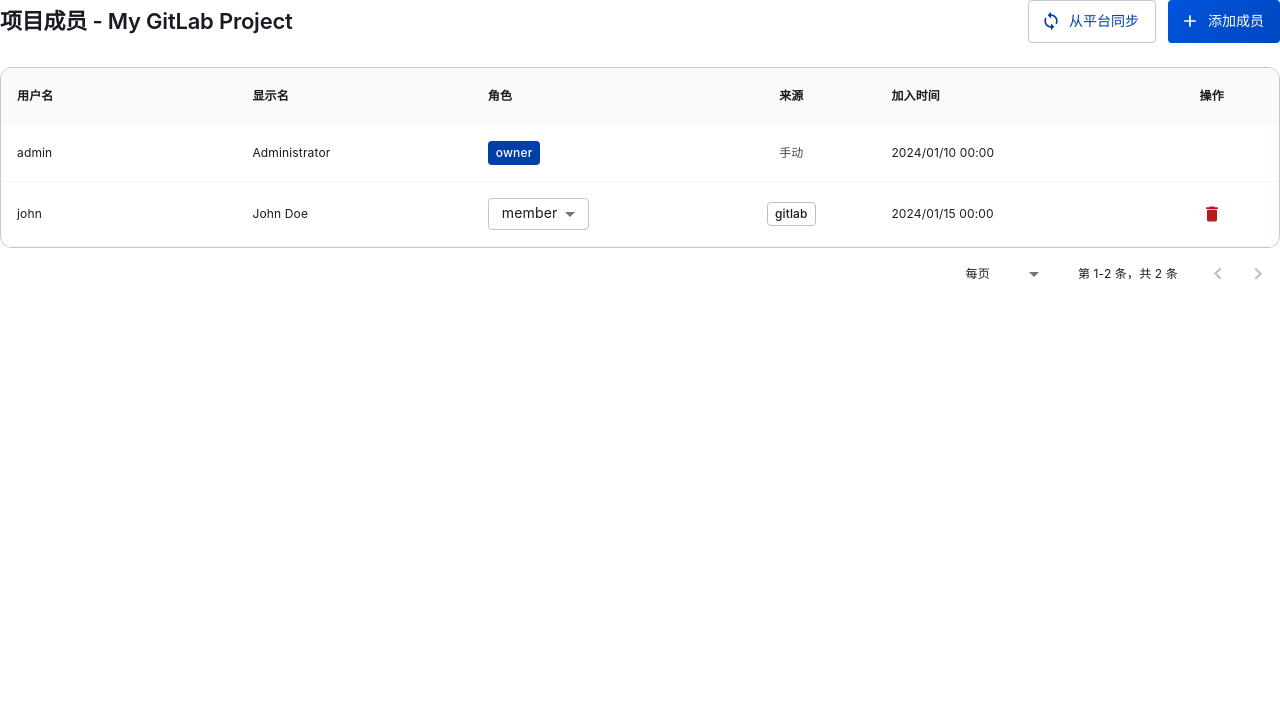
Test: ProjectMembersPage › add member dialog opens on button click
The width and height of the screenshot is (1280, 720).
Expected: the heading "项目成员 - My GitLab Project" is shown, [0,7,293,35]
Click the button "添加成员" at (1224, 21), box [1168,0,1279,42]
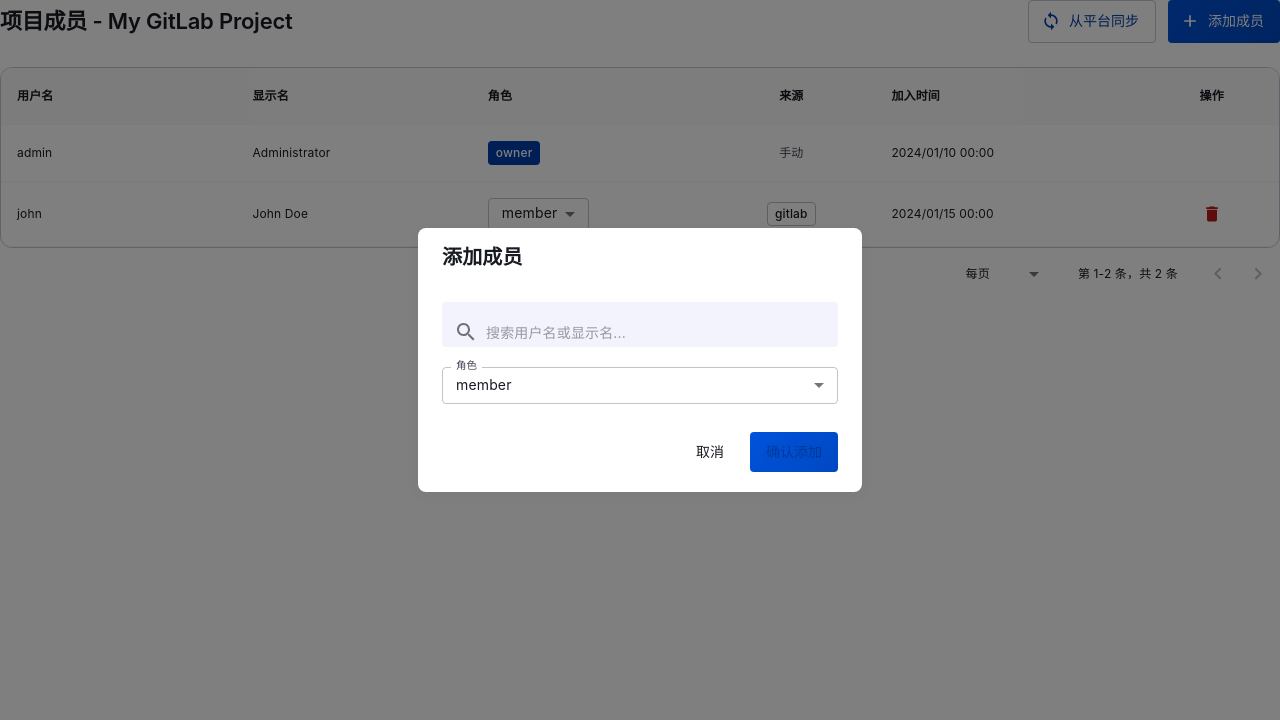
Result: the dialog is shown at [418,228,862,492]
